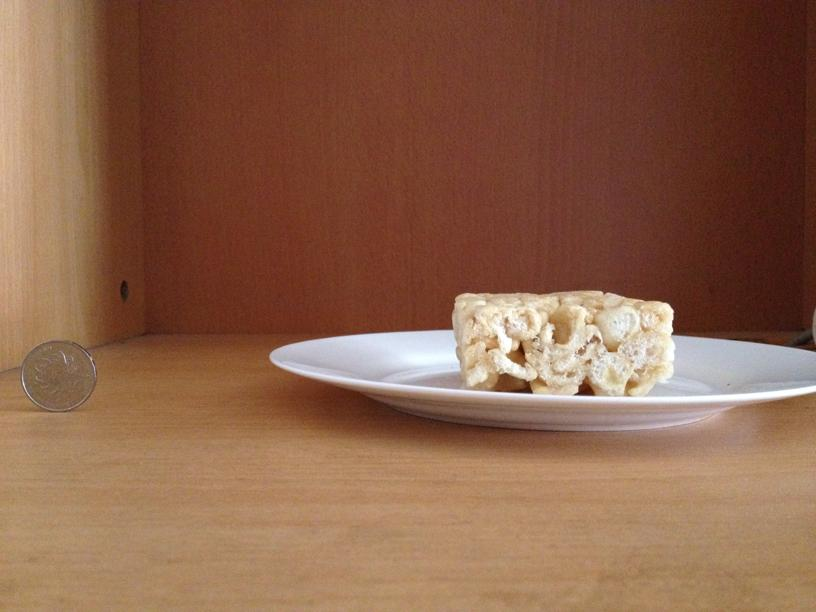coin: (20, 340, 94, 413)
sachima: (453, 286, 677, 398)
